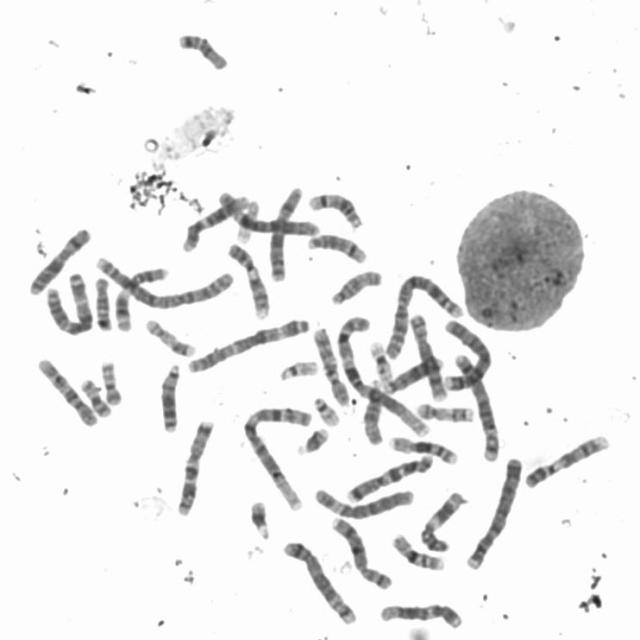A1: (332, 310, 431, 441), (238, 400, 313, 513)
A2: (90, 251, 236, 310), (379, 268, 466, 361)
A3: (183, 312, 313, 375), (41, 267, 96, 337)
B4: (462, 452, 524, 572), (438, 314, 494, 392)
B5: (278, 535, 359, 627), (448, 346, 503, 462)
C10: (32, 352, 98, 430), (308, 322, 353, 408)
C11: (111, 262, 170, 332), (415, 487, 467, 554)
C12: (178, 188, 252, 253), (375, 598, 466, 630)
C6: (214, 186, 322, 238), (310, 483, 415, 521)
C7: (340, 450, 434, 504), (172, 416, 217, 518)
C8: (327, 511, 395, 592), (406, 308, 451, 402)
C9: (521, 429, 612, 490), (224, 238, 272, 320)
D13: (379, 352, 445, 396), (156, 358, 183, 434)
D14: (304, 188, 366, 230), (303, 228, 369, 265)
D15: (326, 265, 384, 307), (360, 376, 387, 446)
E16: (386, 528, 447, 572), (384, 431, 460, 466)
E17: (142, 314, 198, 358), (414, 398, 476, 424)
E18: (174, 28, 230, 72), (90, 272, 114, 333)
F19: (365, 336, 395, 382), (234, 196, 262, 244)
F20: (76, 374, 114, 419), (96, 356, 124, 408)
G21: (292, 422, 331, 457), (245, 495, 273, 541)
G22: (275, 355, 321, 383), (311, 392, 344, 428)
X: (25, 222, 93, 297), (265, 182, 307, 284)
